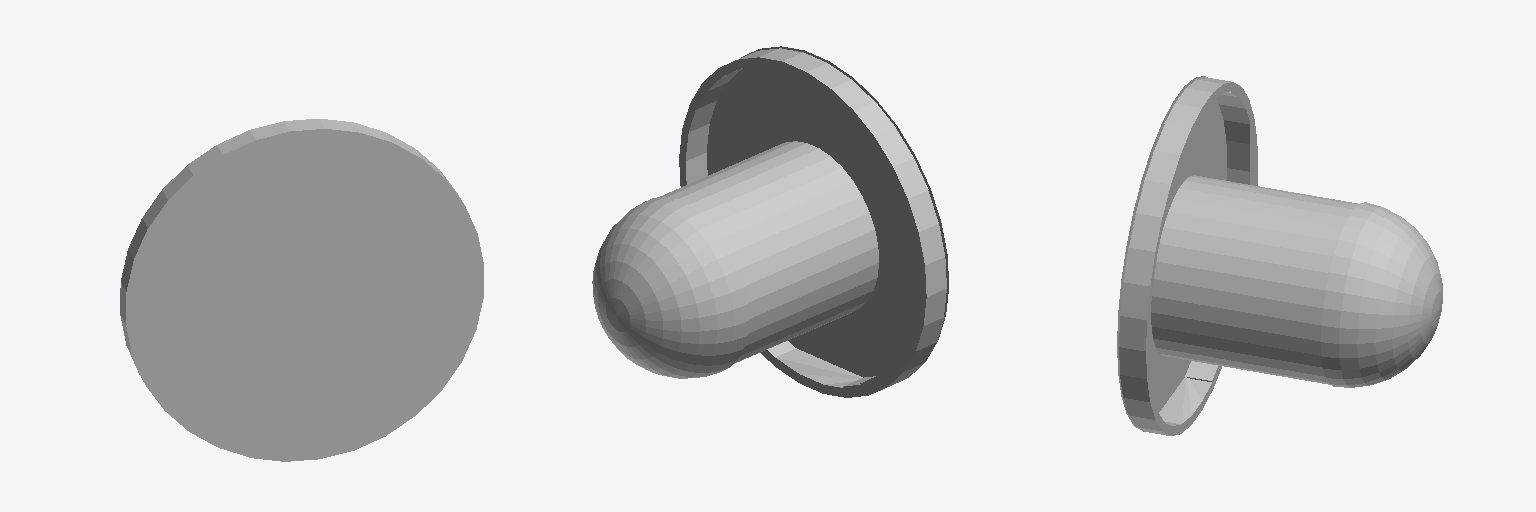
Rendered from mailletp.obj.
3 views of the same model, side by side, from view 1: azimuth 30°, elevation 25°; view 2: azimuth 150°, elevation 25°; view 3: azimuth 270°, elevation 25° (orthographic).
Parts seen in each view (by area): view 1: Cylinder; view 2: Cylinder; view 3: Cylinder.
Boxes of the visible parts, box(x1,y1,x2,y2) form: Cylinder: box(120, 119, 483, 461); Cylinder: box(592, 46, 948, 397); Cylinder: box(1117, 76, 1442, 435).
Size of the model in its own units: 5.27 by 5.28 by 4.78.